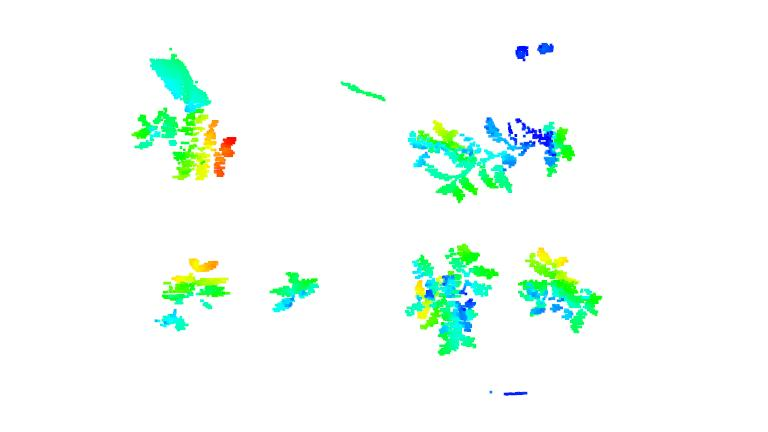chickpea: (402, 243, 501, 358), (430, 119, 574, 198), (512, 245, 604, 334), (131, 105, 238, 181), (154, 256, 233, 329), (401, 118, 474, 168), (266, 269, 320, 313)
